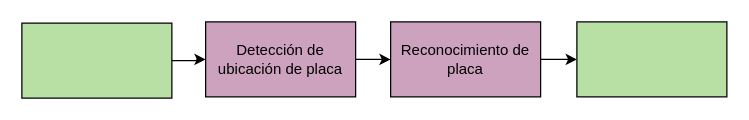
Image size: 749x120. Some labels were removed from this diagram. Each missing label, with the box of its shape:
Base de datos: (576, 21, 727, 97)
Captura de imagen: (21, 22, 172, 98)
